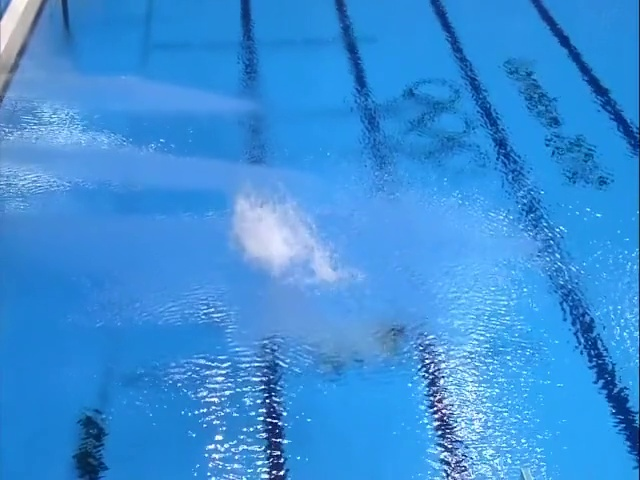splash: (233, 198, 338, 281)
